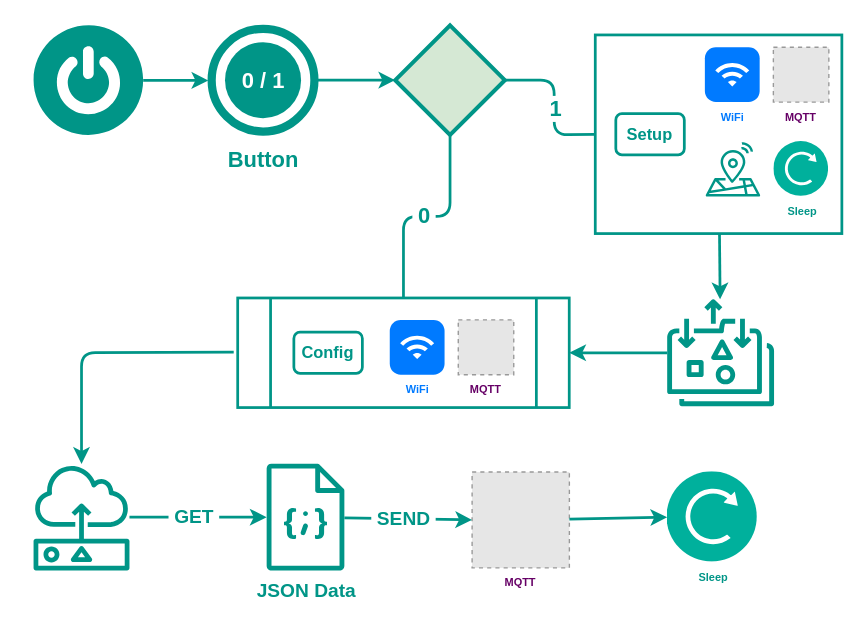
This 866x627 diagram has some shape labels left out. Grey dashed boxes stand in for pictures. The centre of each missing label's shape, as x and y in pixels:
EEPROM: (720,352)
Location: (732,168)
Power: (87,79)
Read: (449,79)
Setup Sensors: (81,516)
